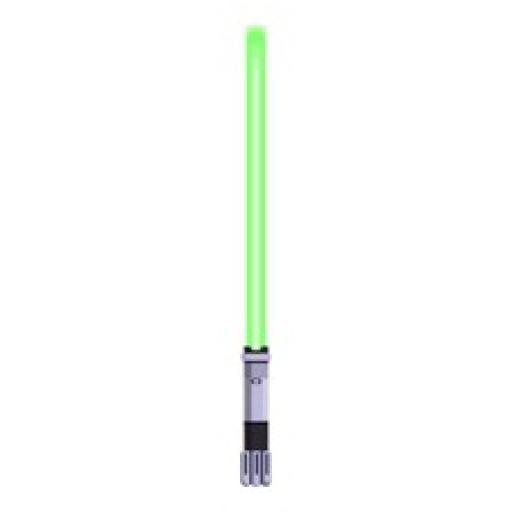lightsaber: (237, 29, 277, 487)
